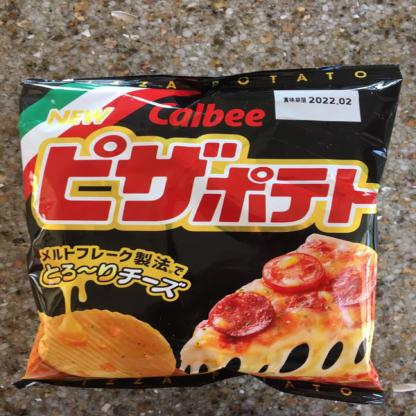potatochip: (17, 64, 402, 402)
